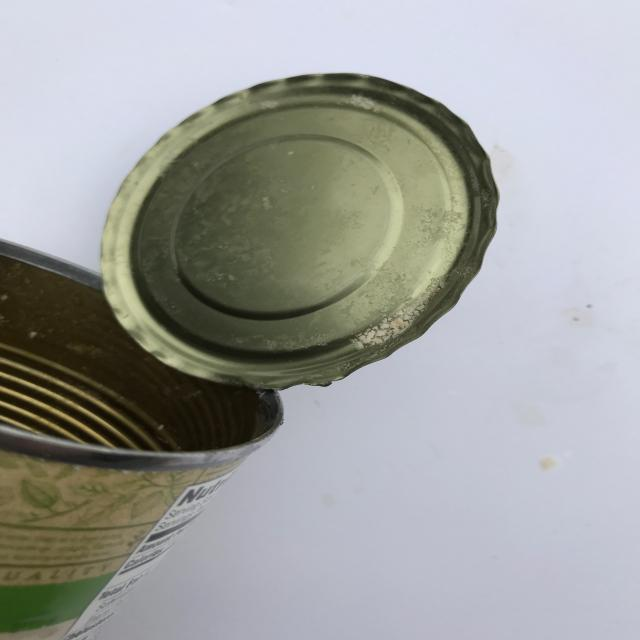metal: (98, 71, 500, 391)
